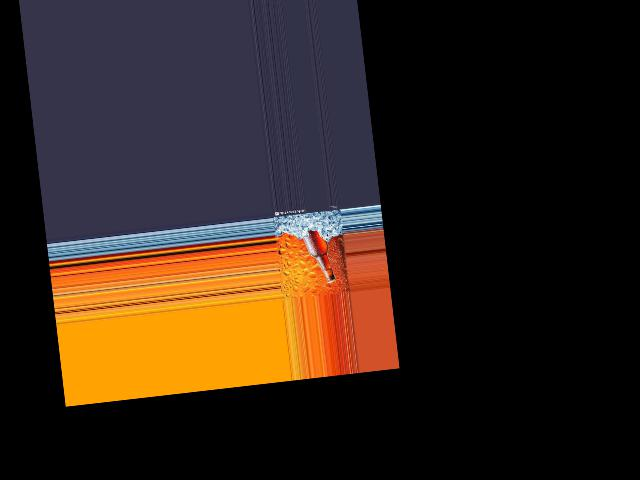beer: (302, 227, 338, 285)
